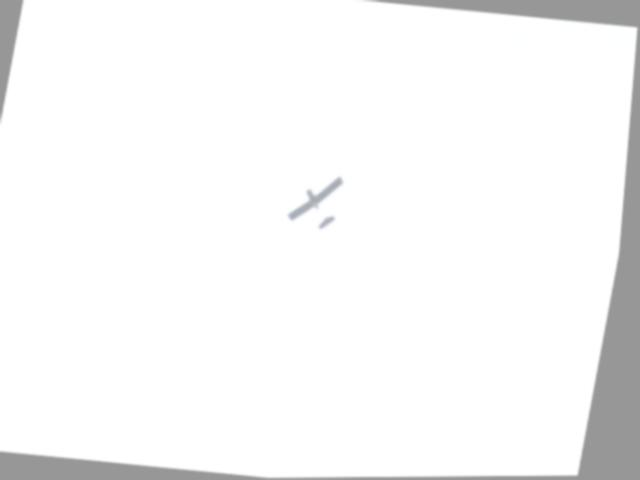uav: (279, 159, 362, 252)
